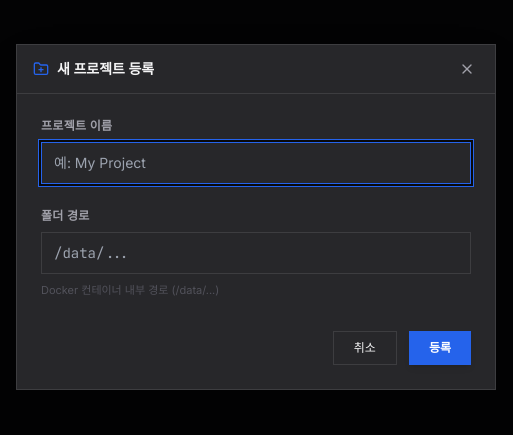
FolderRegisterModal › shows error when submitting empty values
The width and height of the screenshot is (513, 435).
Step 1. Click the button "등록" → click(440, 348), box [409,331,471,365]
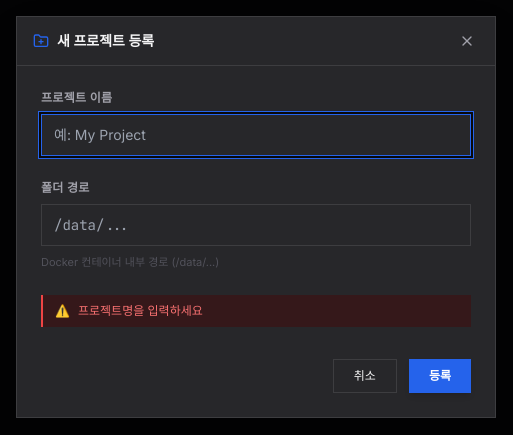
Expected: the text "프로젝트명을 입력하세요" is shown, [78,303,203,318]
